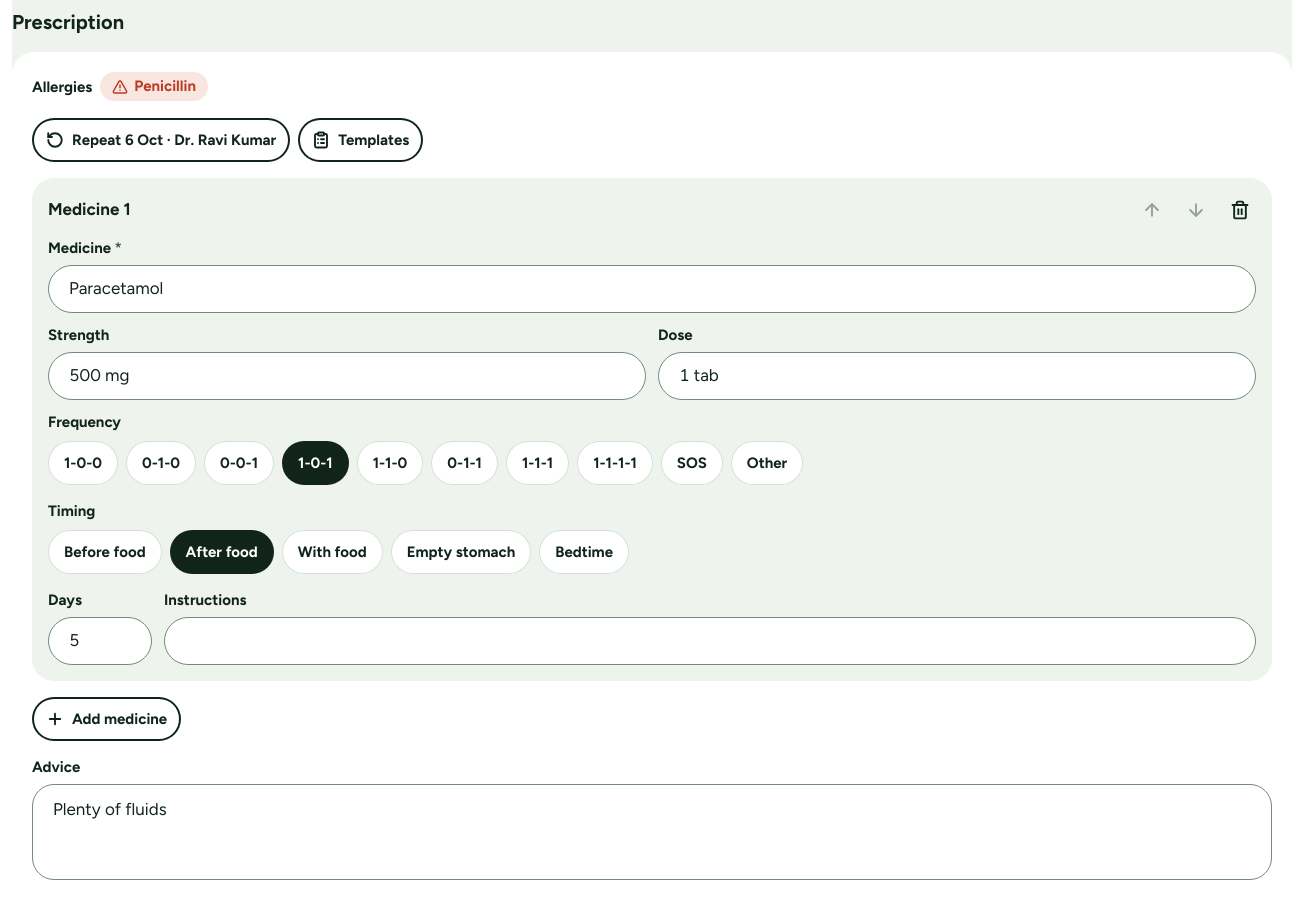
Test case: PrescriptionSection's Repeat and templates (D236 – D241) › adds the prescription before after what is typed, its advice on a new line, and says so
The width and height of the screenshot is (1292, 900).
Click the button "Repeat 6 Oct · Dr. Ravi Kumar".
click(161, 140)  # box [32,118,290,162]
(page scrolled)
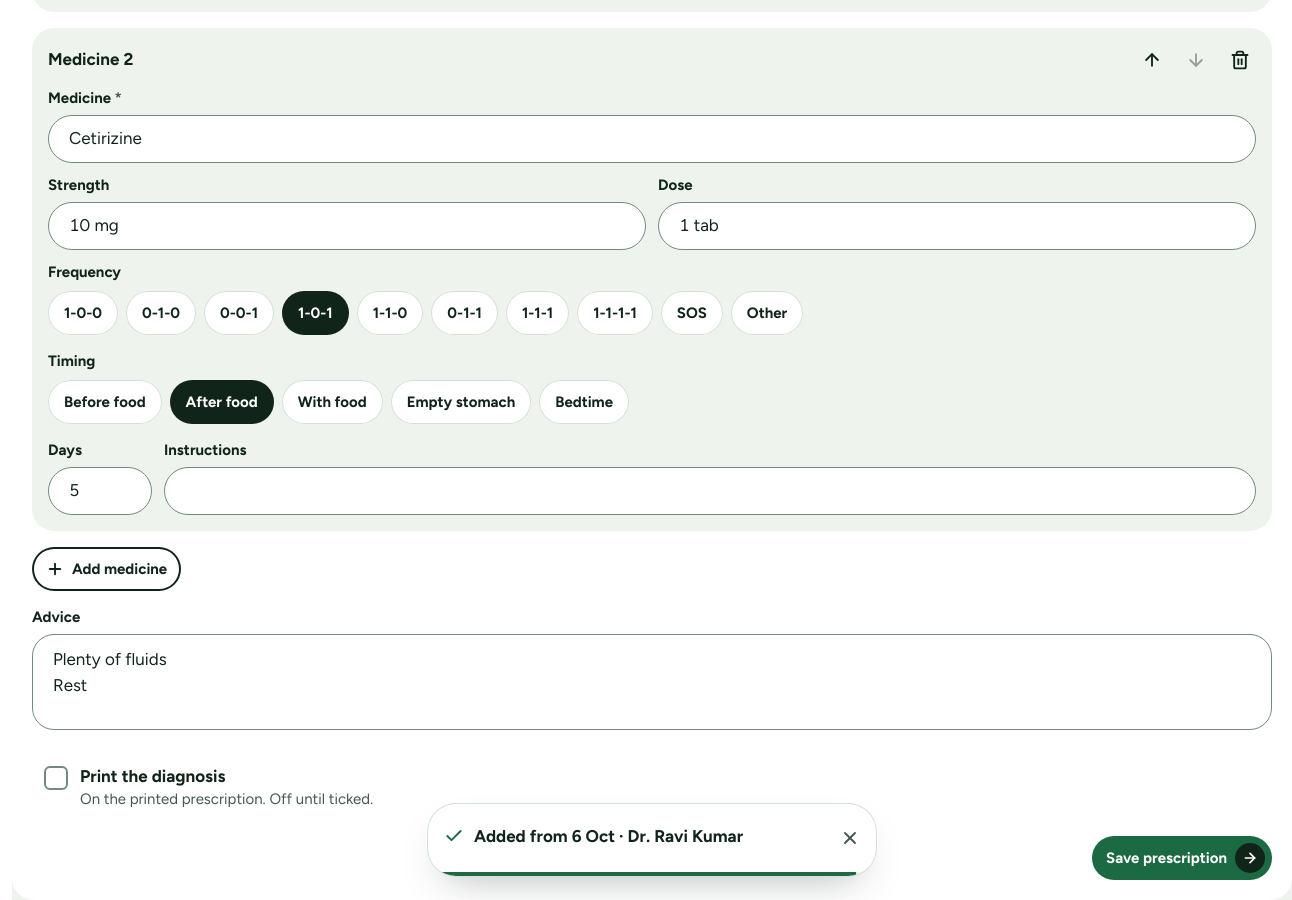
Now the dropdown labelled "Medicine" holds "Cetirizine", box [48,115,1256,163]
Now the field labelled "Strength" holds "10 mg", box [48,202,646,250]
Now the button "Save prescription" is shown, box [1092,836,1272,880]
